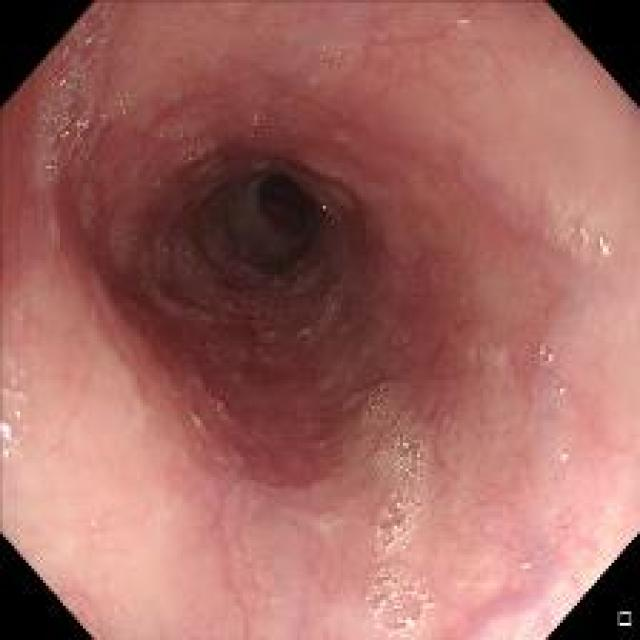bubbles: (370, 496, 436, 636), (364, 428, 431, 491), (144, 280, 215, 325), (535, 336, 574, 402), (344, 376, 396, 422), (309, 285, 354, 336), (111, 225, 140, 266), (315, 371, 341, 408), (240, 110, 271, 131), (210, 396, 234, 418)
color misalignment: (34, 45, 94, 172), (1, 354, 40, 476), (562, 218, 614, 259), (172, 125, 221, 166), (75, 188, 102, 234), (319, 42, 361, 65), (100, 100, 130, 122), (159, 235, 175, 259), (550, 375, 570, 394), (539, 340, 551, 368), (139, 119, 154, 132)
contrast: (222, 166, 330, 256)
specularity: (395, 614, 414, 629), (598, 236, 610, 255), (2, 422, 11, 439), (375, 599, 385, 612), (560, 450, 568, 462)
